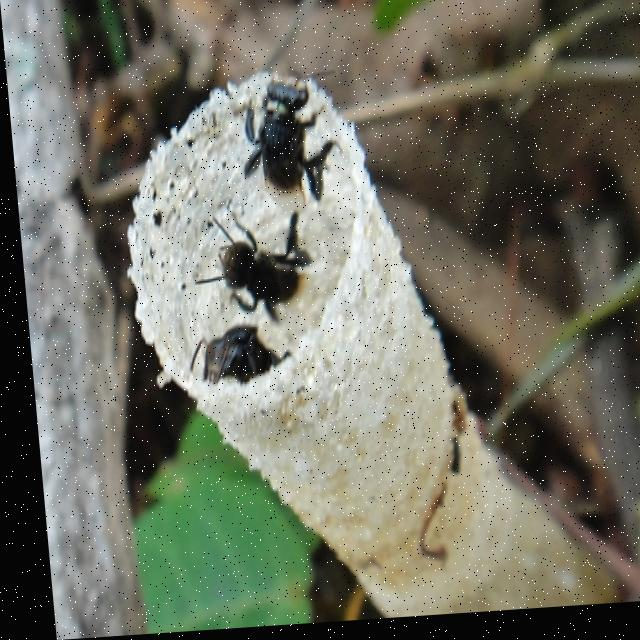Meliponula: (236, 59, 332, 213)
